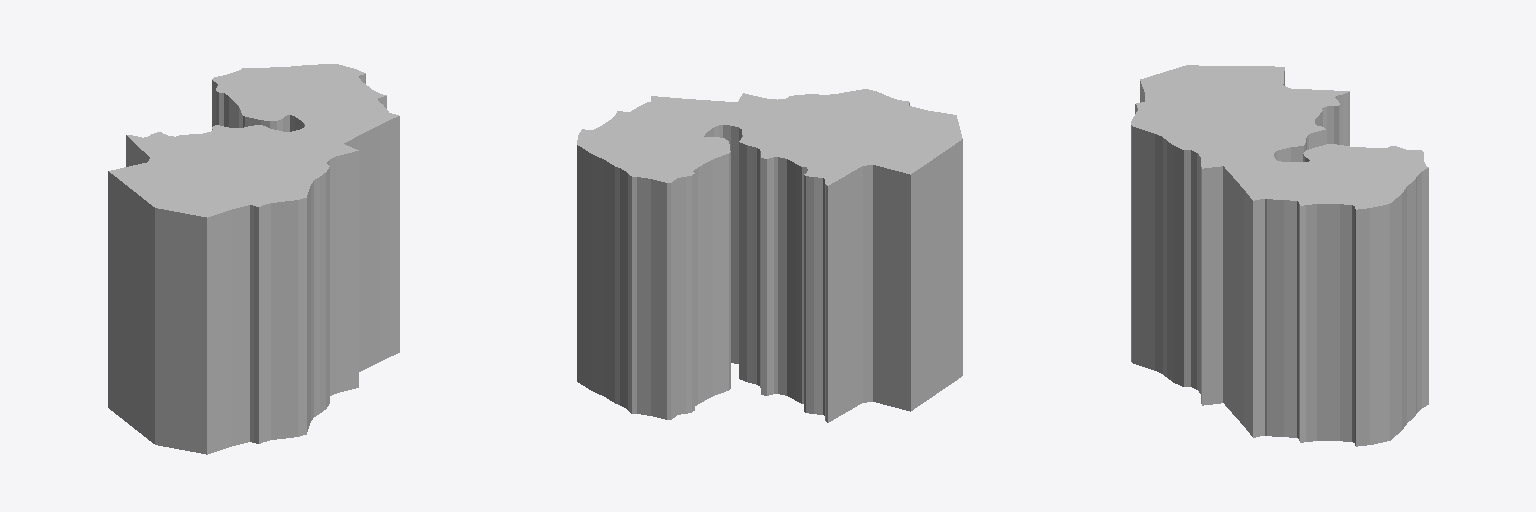
3 renders of one model, left to right at view 1: azimuth 30°, elevation 25°; view 2: azimuth 150°, elevation 25°; view 3: azimuth 270°, elevation 25°, orthographic.
Visible parts, largest first — view 1: ZM.002_CUCurve.1877; view 2: ZM.002_CUCurve.1877; view 3: ZM.002_CUCurve.1877.
Boxes of the visible parts, x1,y1,x2,y2 form: ZM.002_CUCurve.1877: [108, 64, 399, 454]; ZM.002_CUCurve.1877: [577, 89, 962, 422]; ZM.002_CUCurve.1877: [1131, 65, 1428, 446].
Size of the model in its own units: 0.0653 by 0.05 by 0.057.